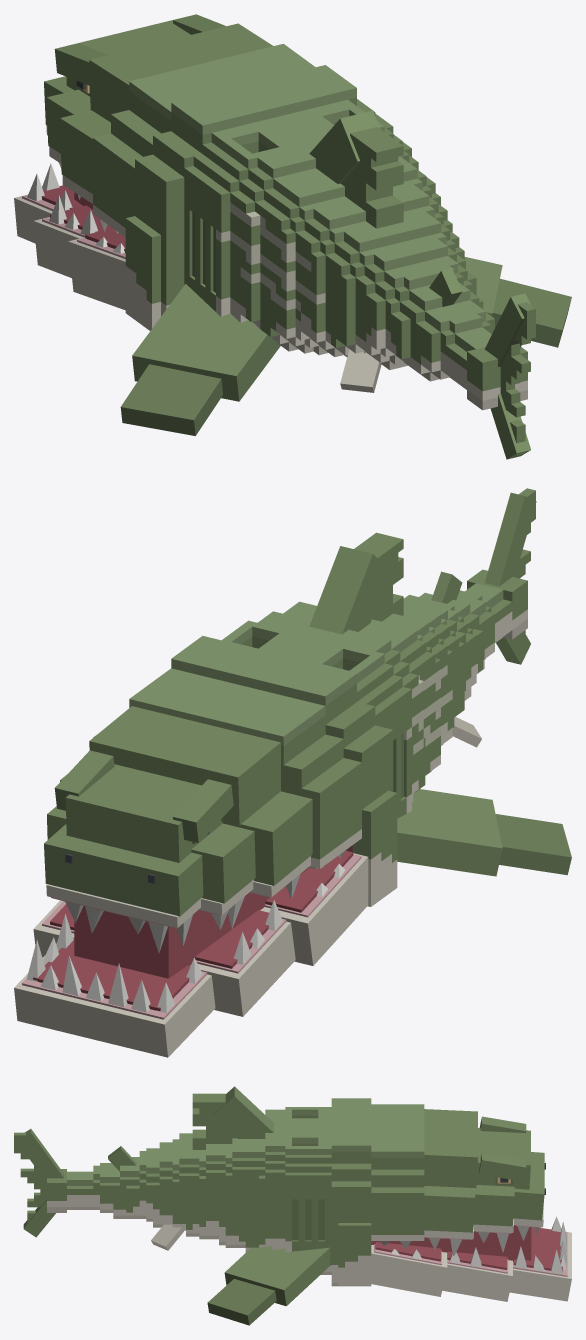
The model's file is Otodus.glb.
3 renders of one model, top to bottom at view 1: azimuth 30°, elevation 25°; view 2: azimuth 150°, elevation 25°; view 3: azimuth 270°, elevation 25°, orthographic. The views are drawn at different scales.
Parts seen in each view (by area): view 1: Head, S1, S2, S3, Jaw, Tail, S4, S5; view 2: Head, Jaw, S1, S2, Tail, S3, S4, S5; view 3: Head, S1, S2, Jaw, S3, Tail, S4, S5.
Boxes of the visible parts, left/top/right/bottom form: Head: left=44, top=14, right=393, bottom=330; S1: left=120, top=99, right=571, bottom=435; S2: left=240, top=110, right=452, bottom=356; S3: left=331, top=215, right=476, bottom=392; Jaw: left=14, top=163, right=125, bottom=310; Tail: left=467, top=293, right=536, bottom=459; S4: left=385, top=266, right=489, bottom=381; S5: left=426, top=308, right=494, bottom=389; Head: left=44, top=636, right=397, bottom=978; Jaw: left=14, top=851, right=368, bottom=1057; S1: left=222, top=615, right=571, bottom=876; S2: left=268, top=532, right=452, bottom=792; Tail: left=467, top=488, right=536, bottom=664; S3: left=403, top=598, right=481, bottom=747; S4: left=404, top=571, right=489, bottom=673; S5: left=456, top=583, right=512, bottom=659; Head: left=331, top=1098, right=545, bottom=1286; S1: left=207, top=1107, right=331, bottom=1325; S2: left=192, top=1086, right=273, bottom=1252; Jaw: left=371, top=1217, right=571, bottom=1301; S3: left=146, top=1133, right=192, bottom=1250; Tail: left=14, top=1129, right=66, bottom=1237; S4: left=106, top=1146, right=146, bottom=1218; S5: left=67, top=1163, right=106, bottom=1212.
Bounding box in the file's own units: 24.84 × 15.59 × 42.16.
